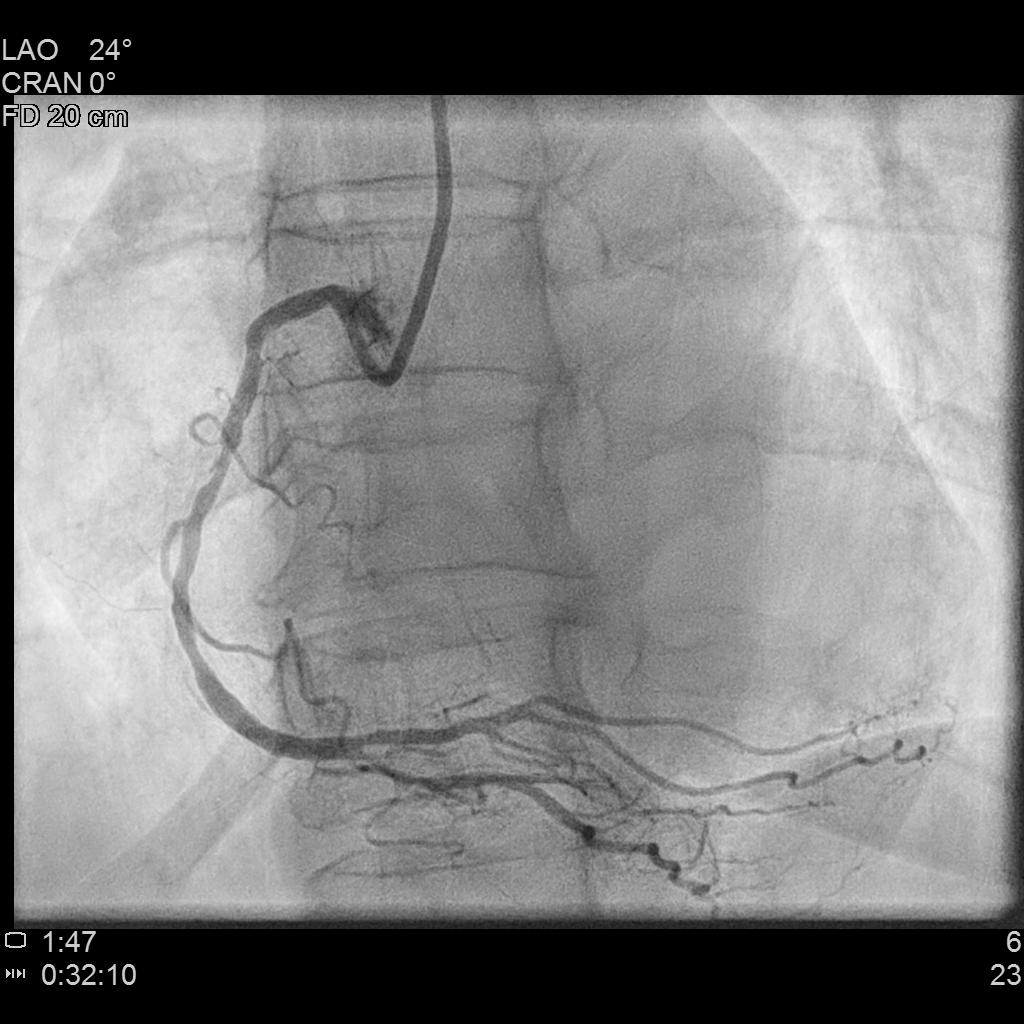block: (196, 411, 253, 524)
